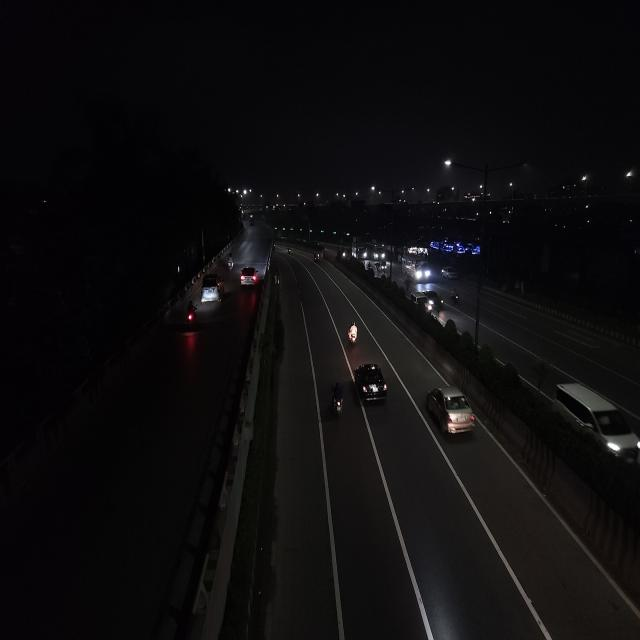bus: (401, 251, 431, 284), (356, 241, 370, 261), (372, 244, 387, 262)
car: (550, 376, 640, 464), (425, 382, 477, 442), (354, 359, 389, 408), (200, 273, 224, 305), (412, 291, 438, 313), (239, 264, 259, 288), (440, 265, 459, 282)
cng: (312, 250, 322, 264)
motorcycle: (328, 379, 347, 422), (345, 319, 361, 350), (185, 300, 199, 326), (451, 288, 462, 307), (226, 256, 234, 271)
